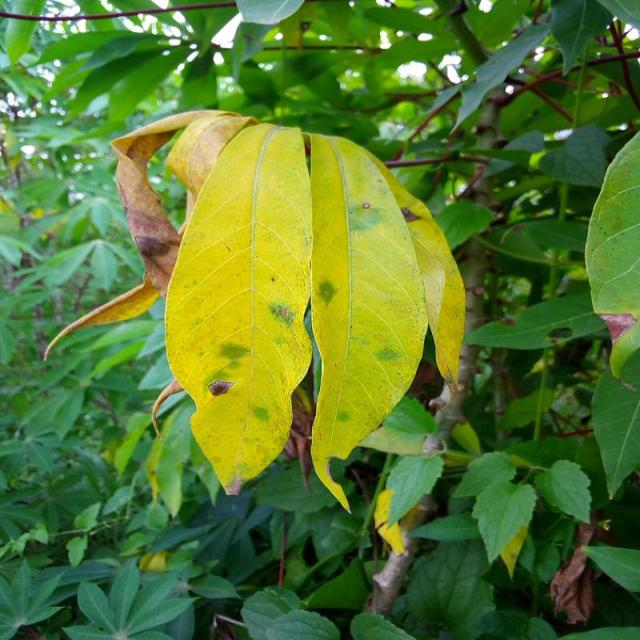cassava leaf: (44, 106, 466, 513), (163, 119, 313, 496), (306, 130, 429, 514)
